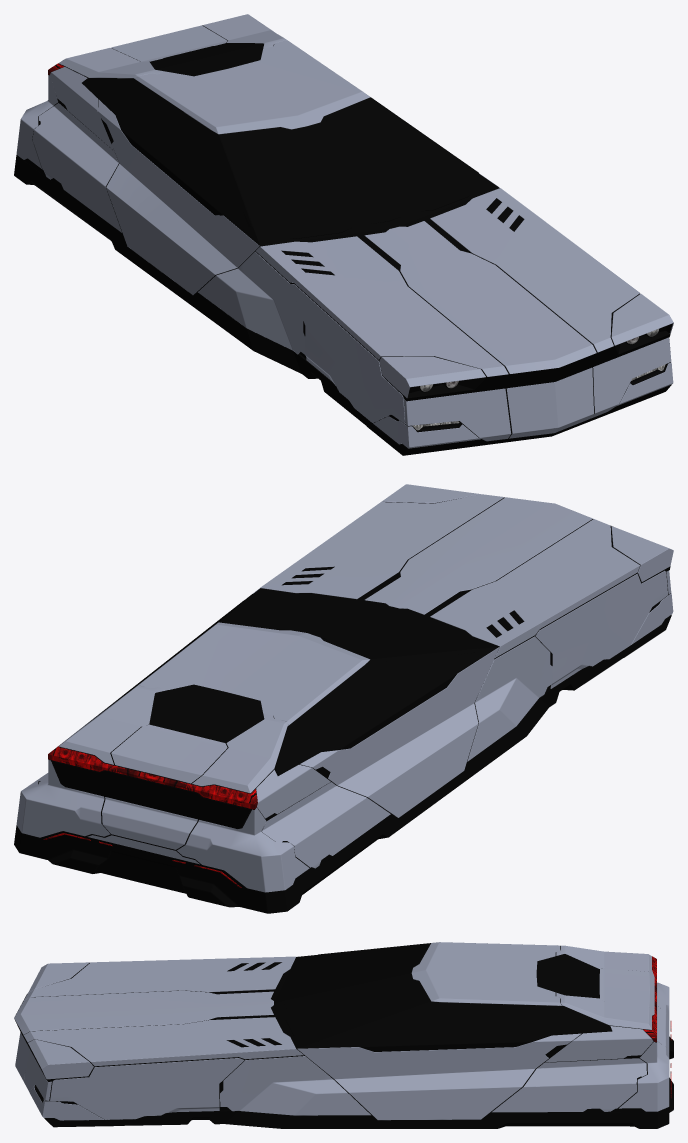
Rendered from sci-fi_vehicle_032_fv_-_public_domain_cc0.glb.
The picture shows the model from 3 angles, top to bottom: view 1: azimuth 30°, elevation 25°; view 2: azimuth 150°, elevation 25°; view 3: azimuth 270°, elevation 25°; orthographic projection. The views are drawn at different scales.
Parts seen in each view (by area): view 1: Cube.002, Cube.010, Cube.001, Cube.007, Cube.012, Cube.009, Cube, Cube.008, Cube.013, Cube.023, Cube.017, Cube.011 (+8 smaller); view 2: Cube.010, Cube.002, Cube.007, Cube.012, Cube.017, Cube.001, Cube.011, Cube.026, Cube, Cube.008, Cube.013, Cube.023 (+9 smaller); view 3: Cube.002, Cube.010, Cube.007, Cube.008, Cube.001, Cube.012, Cube.011, Cube.023, Cube.013, Cube, Cube.017, Cube.004 (+9 smaller).
Boxes of the visible parts, x1=… form: Cube.002: x1=99, y1=83, x2=479, y2=238; Cube.010: x1=256, y1=188, x2=639, y2=376; Cube.001: x1=364, y1=221, x2=596, y2=373; Cube.007: x1=98, y1=99, x2=499, y2=294; Cube.012: x1=135, y1=40, x2=370, y2=134; Cube.009: x1=403, y1=337, x2=671, y2=441; Cube: x1=16, y1=25, x2=672, y2=448; Cube.008: x1=290, y1=284, x2=405, y2=423; Cube.013: x1=32, y1=103, x2=121, y2=232; Cube.023: x1=198, y1=251, x2=304, y2=354; Cube.017: x1=59, y1=14, x2=286, y2=78; Cube.011: x1=14, y1=155, x2=371, y2=425; Cube.010: x1=260, y1=494, x2=639, y2=657; Cube.002: x1=102, y1=592, x2=479, y2=763; Cube.007: x1=98, y1=588, x2=499, y2=817; Cube.012: x1=138, y1=622, x2=370, y2=725; Cube.017: x1=59, y1=685, x2=288, y2=793; Cube.001: x1=365, y1=497, x2=593, y2=614; Cube.011: x1=14, y1=646, x2=629, y2=913; Cube.026: x1=16, y1=759, x2=309, y2=892; Cube: x1=16, y1=497, x2=670, y2=893; Cube.008: x1=535, y1=570, x2=667, y2=688; Cube.013: x1=35, y1=773, x2=390, y2=868; Cube.023: x1=467, y1=636, x2=552, y2=761; Cube.002: x1=283, y1=943, x2=581, y2=1051; Cube.010: x1=23, y1=956, x2=303, y2=1066; Cube.007: x1=297, y1=1033, x2=581, y2=1120; Cube.008: x1=50, y1=1058, x2=244, y2=1119; Cube.001: x1=14, y1=990, x2=273, y2=1034; Cube.012: x1=411, y1=942, x2=561, y2=1005; Cube.011: x1=106, y1=1036, x2=673, y2=1128; Cube.023: x1=220, y1=1056, x2=370, y2=1115; Cube.013: x1=492, y1=1058, x2=646, y2=1112; Cube: x1=19, y1=943, x2=668, y2=1123; Cube.017: x1=556, y1=945, x2=654, y2=1029; Cube.004: x1=28, y1=962, x2=93, y2=1079.
Bounding box in the file's own units: 2.32 × 1.11 × 6.14.
Materials: 7 (2 with a texture image).
